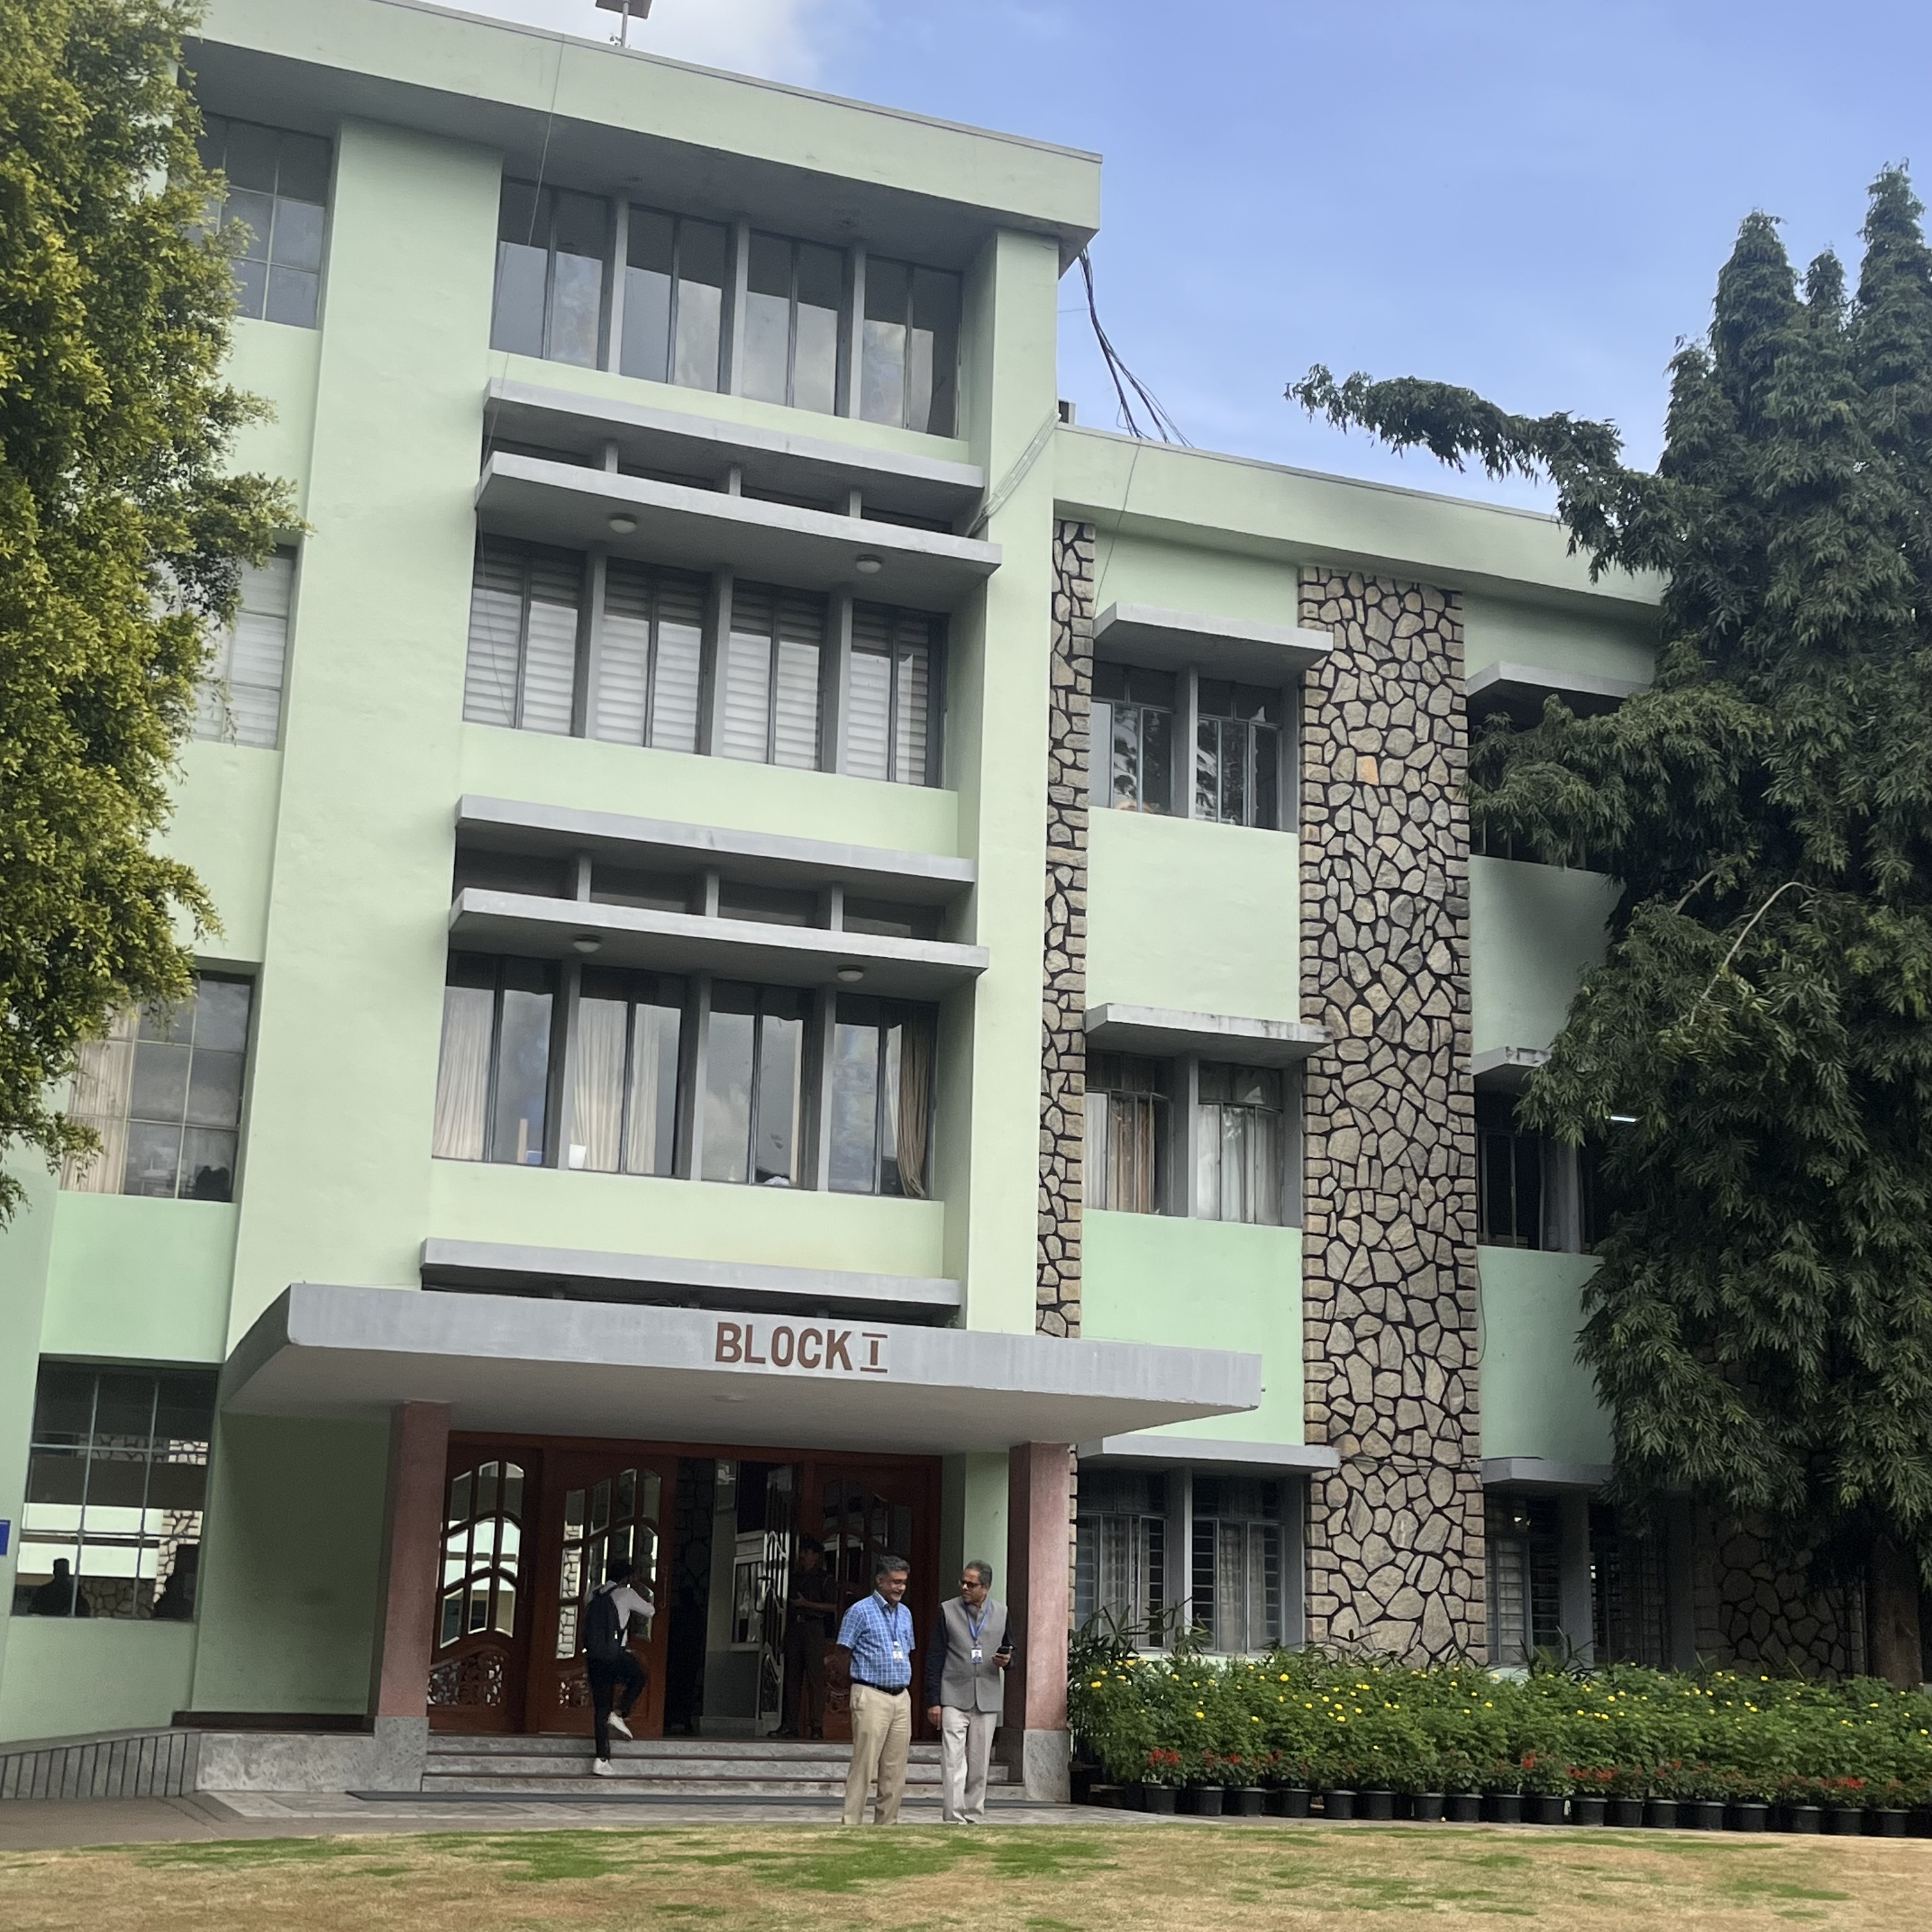Block 1: (218, 16, 1596, 1707)
